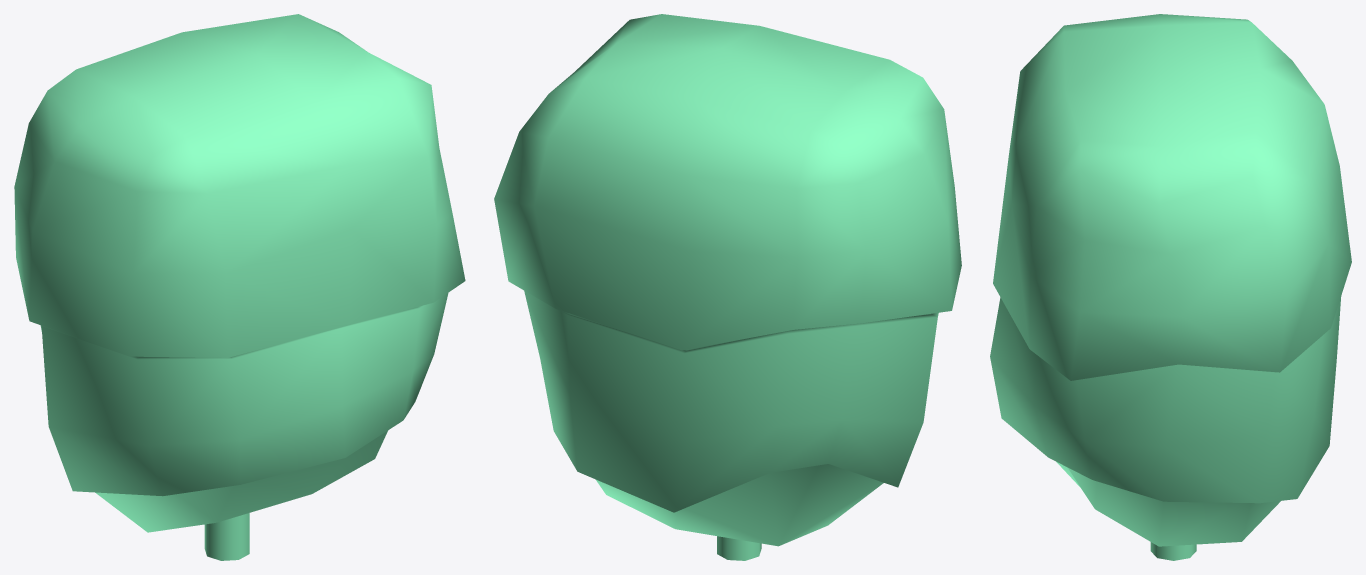
Rendered from BushB2.fbx.
3 renders of one model, left to right at view 1: azimuth 30°, elevation 25°; view 2: azimuth 150°, elevation 25°; view 3: azimuth 270°, elevation 25°, orthographic.
Parts seen in each view (by area): view 1: Bush_B2; view 2: Bush_B2; view 3: Bush_B2.
Boxes of the visible parts, <box> form: Bush_B2: <box>14,14,465,560</box>; Bush_B2: <box>494,14,961,560</box>; Bush_B2: <box>990,14,1351,560</box>.
Bounding box in the file's own units: 62.33 × 72.44 × 48.47.
